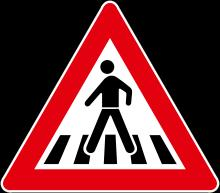Pedestrian Crossing: (9, 12, 214, 186)
